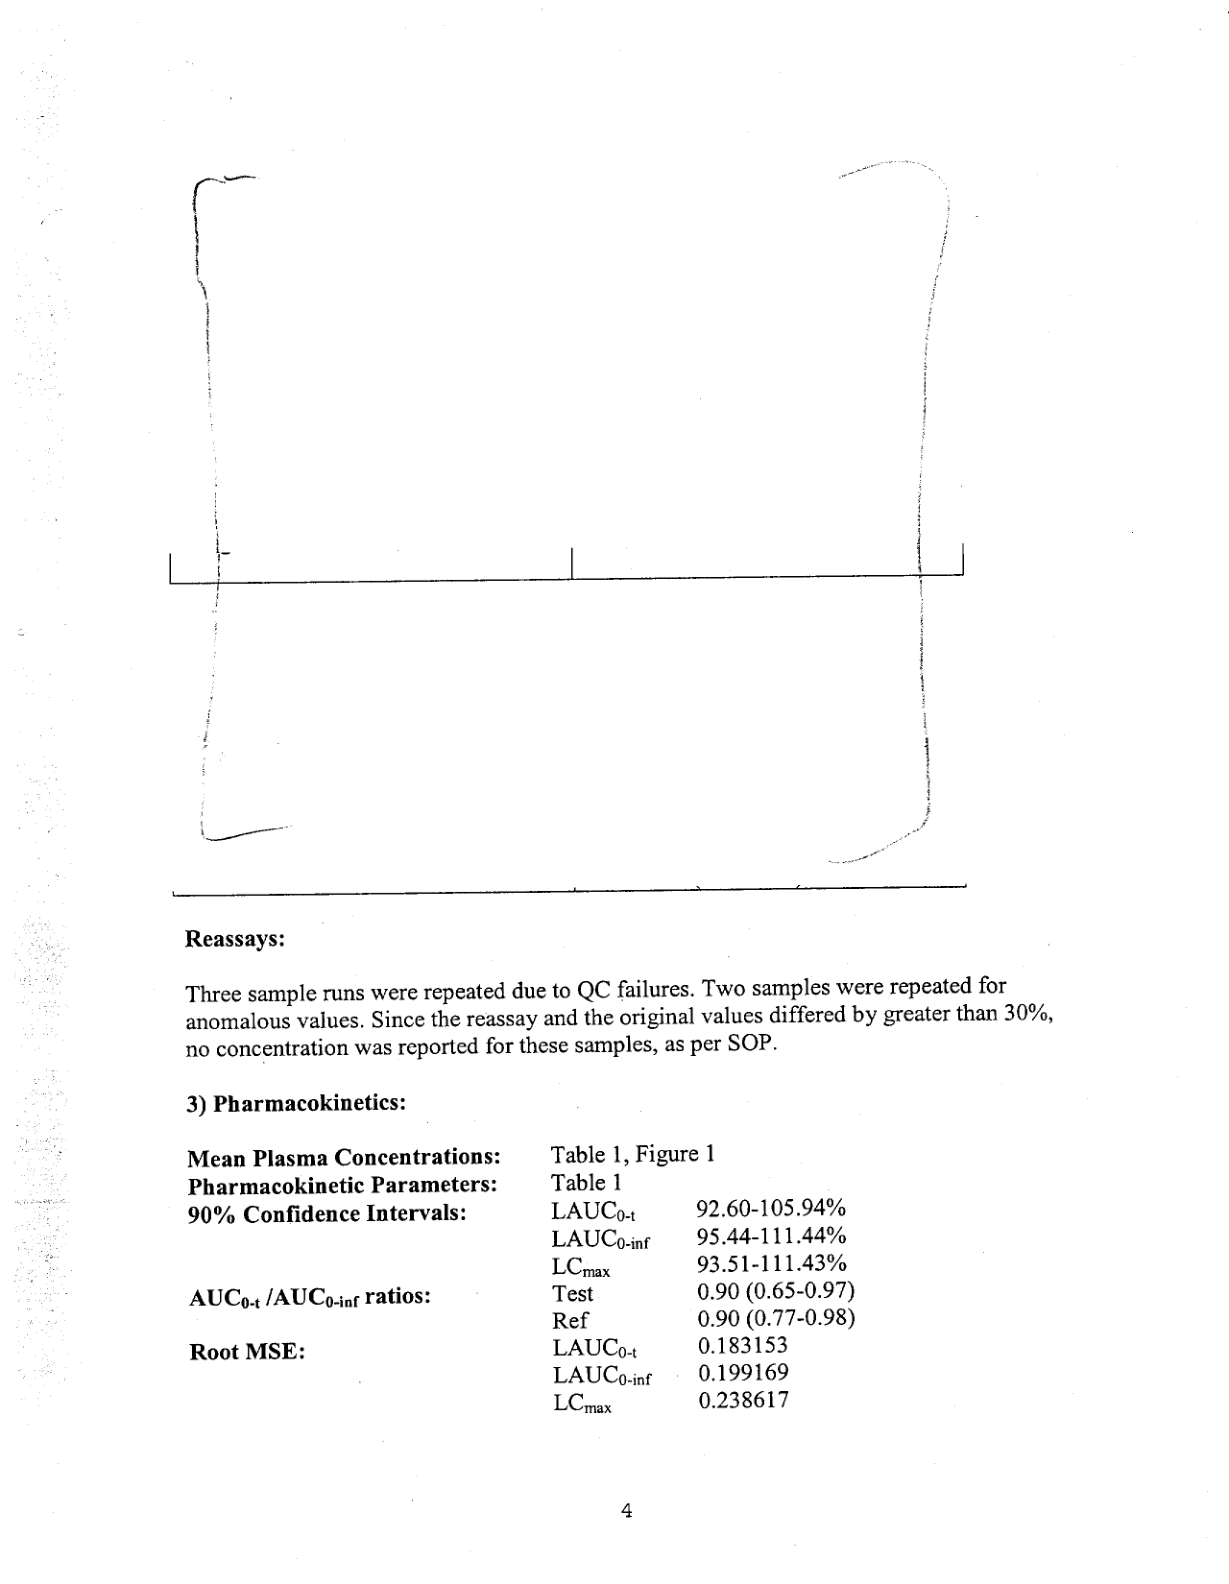nolines: (185, 1144, 859, 1419)
